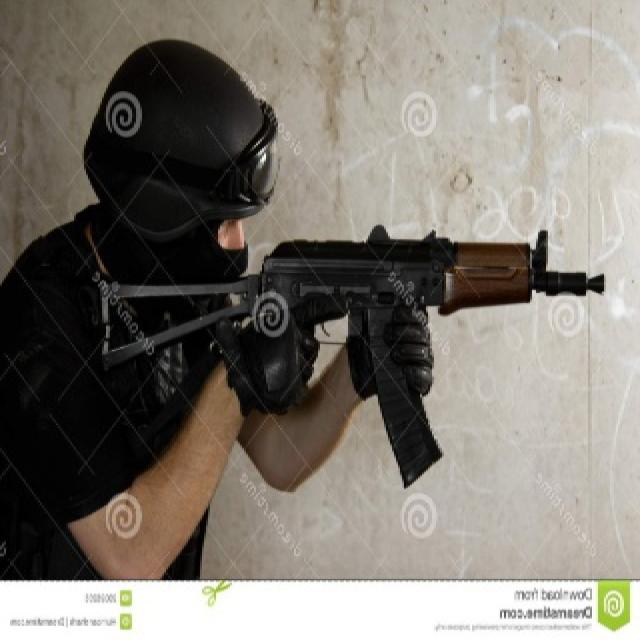rifle: (97, 223, 617, 489)
